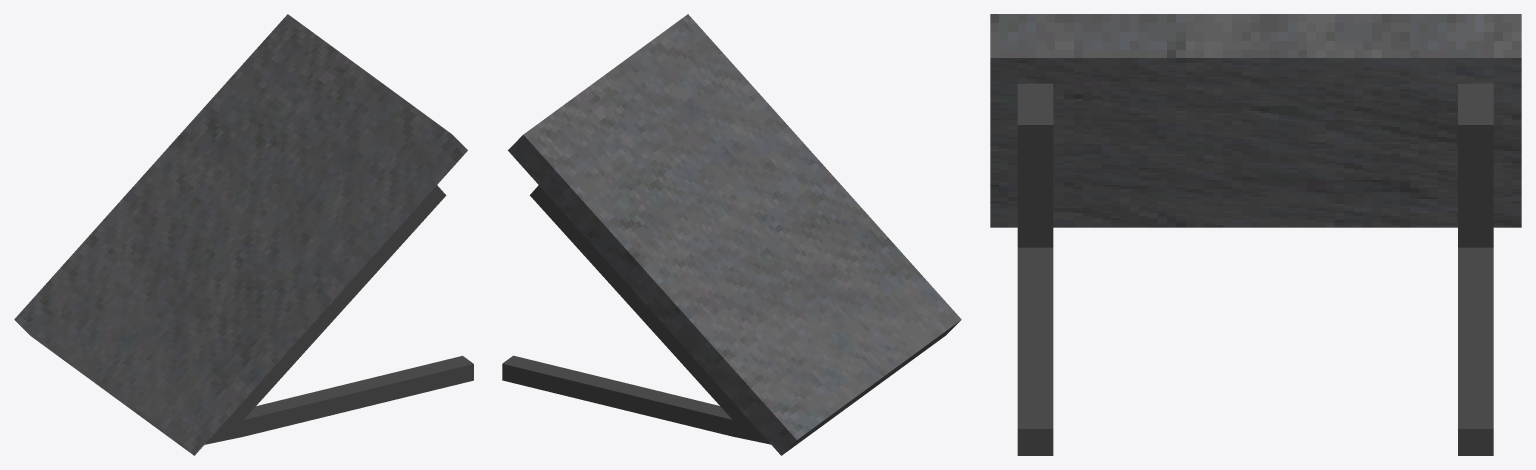
The model's file is GravSten4.glb.
3 views of the same model, side by side, from view 1: azimuth 30°, elevation 25°; view 2: azimuth 150°, elevation 25°; view 3: azimuth 270°, elevation 25° (orthographic). The views are drawn at different scales.
Parts seen in each view (by area): view 1: GravSten; view 2: GravSten; view 3: GravSten.
Boxes of the visible parts, x1,y1,x2,y2 form: GravSten: [14, 14, 473, 455]; GravSten: [502, 14, 961, 455]; GravSten: [990, 14, 1521, 455].
Bounding box in the file's own units: 1.55 × 1.26 × 1.45.
1 material, 1 textured.
